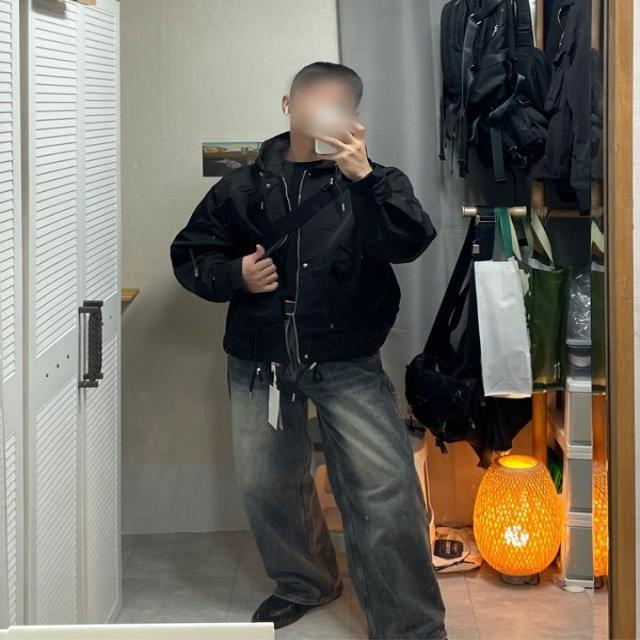denimpants: (226, 344, 448, 636)
jacket: (174, 135, 442, 367)
